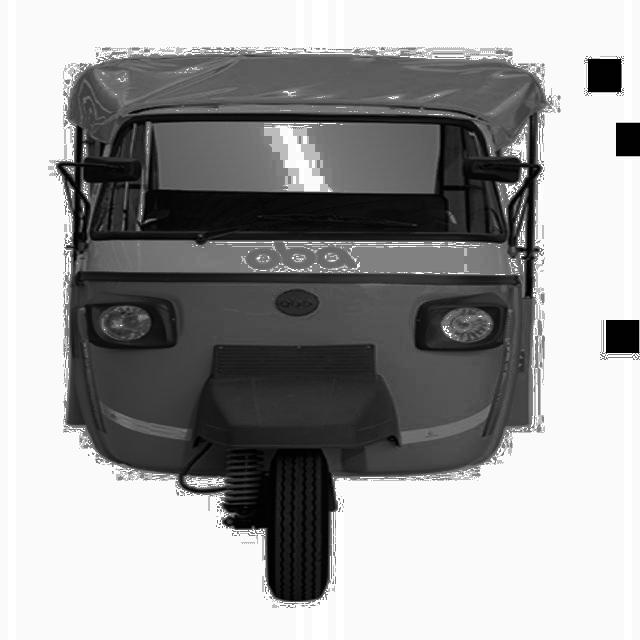Auto-Rickshaw: (42, 51, 578, 625)
